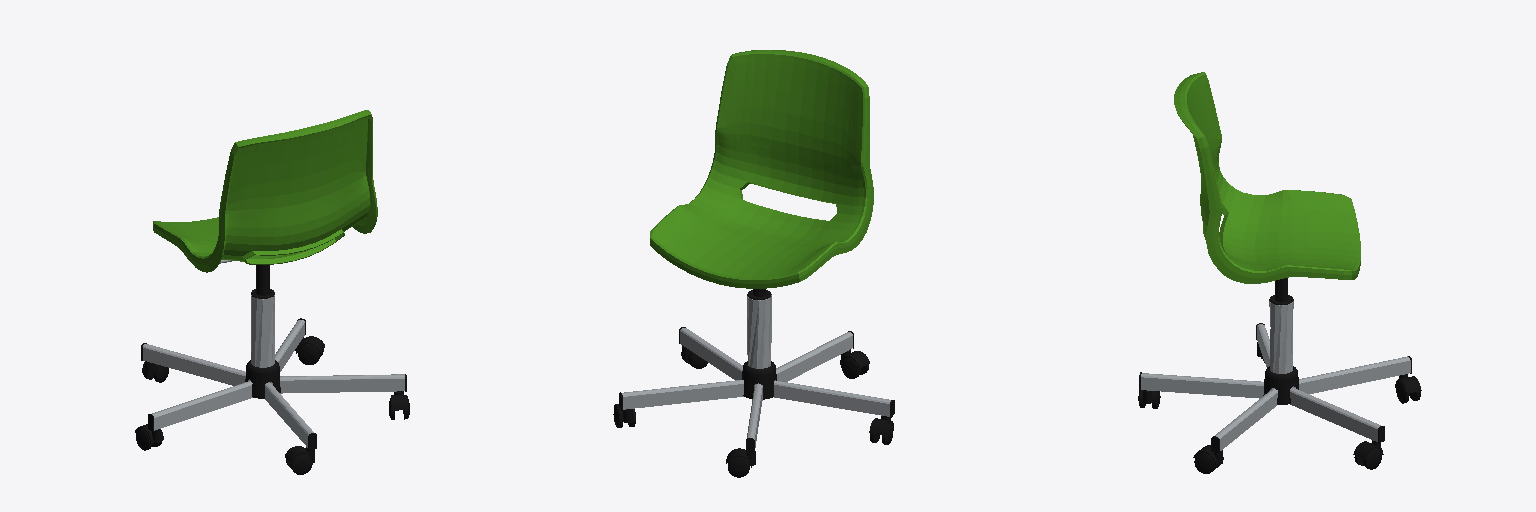
3 views of the same model, side by side, from view 1: azimuth 30°, elevation 25°; view 2: azimuth 150°, elevation 25°; view 3: azimuth 270°, elevation 25° (orthographic).
Parts seen in each view (by area): view 1: Mesh2 Group2 SNILLE_IKEA1 Model, Mesh8 Group6 SNILLE_IKEA1 Model, Mesh7 Group5 SNILLE_IKEA1 Model, Mesh1 Group1 SNILLE_IKEA1 Model, Mesh3 Group3 SNILLE_IKEA1 Model; view 2: Mesh2 Group2 SNILLE_IKEA1 Model, Mesh8 Group6 SNILLE_IKEA1 Model, Mesh7 Group5 SNILLE_IKEA1 Model, Mesh1 Group1 SNILLE_IKEA1 Model; view 3: Mesh2 Group2 SNILLE_IKEA1 Model, Mesh8 Group6 SNILLE_IKEA1 Model, Mesh7 Group5 SNILLE_IKEA1 Model, Mesh1 Group1 SNILLE_IKEA1 Model.
Boxes of the visible parts, box(x1,y1,x2,y2) form: Mesh2 Group2 SNILLE_IKEA1 Model: box(153, 110, 377, 272); Mesh8 Group6 SNILLE_IKEA1 Model: box(141, 318, 406, 449); Mesh7 Group5 SNILLE_IKEA1 Model: box(251, 295, 274, 367); Mesh1 Group1 SNILLE_IKEA1 Model: box(245, 360, 280, 398); Mesh3 Group3 SNILLE_IKEA1 Model: box(251, 265, 274, 298); Mesh2 Group2 SNILLE_IKEA1 Model: box(650, 50, 873, 288); Mesh8 Group6 SNILLE_IKEA1 Model: box(619, 327, 894, 453); Mesh7 Group5 SNILLE_IKEA1 Model: box(747, 295, 771, 368); Mesh1 Group1 SNILLE_IKEA1 Model: box(742, 361, 776, 399); Mesh2 Group2 SNILLE_IKEA1 Model: box(1174, 72, 1360, 283); Mesh8 Group6 SNILLE_IKEA1 Model: box(1139, 323, 1411, 452); Mesh7 Group5 SNILLE_IKEA1 Model: box(1269, 301, 1293, 373); Mesh1 Group1 SNILLE_IKEA1 Model: box(1263, 366, 1298, 404).
Size of the model in its own units: 0.5828 by 0.7558 by 0.597.